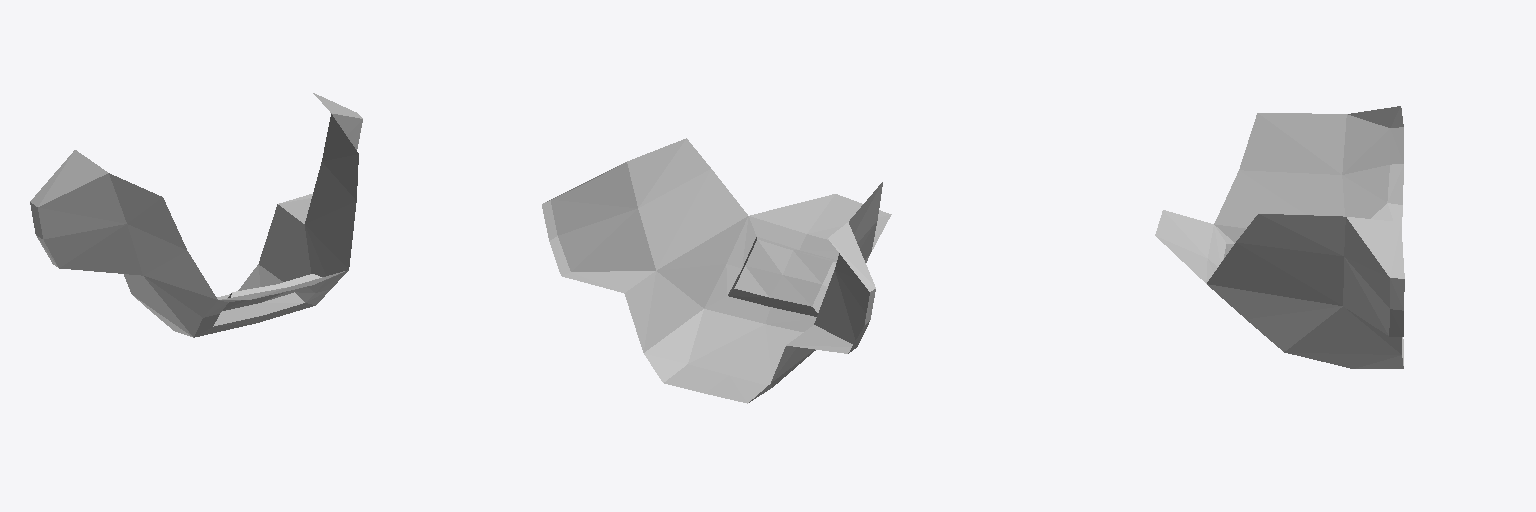
Rendered from X02RightPawBack.obj.
3 renders of one model, left to right at view 1: azimuth 30°, elevation 25°; view 2: azimuth 150°, elevation 25°; view 3: azimuth 270°, elevation 25°, orthographic.
Parts seen in each view (by area): view 1: CPA.001; view 2: CPA.001; view 3: CPA.001.
Boxes of the visible parts, box(x1,y1,x2,y2) form: CPA.001: box(30, 93, 362, 337); CPA.001: box(542, 138, 891, 403); CPA.001: box(1155, 106, 1404, 368).
Size of the model in its own units: 25.69 by 13.86 by 16.94.